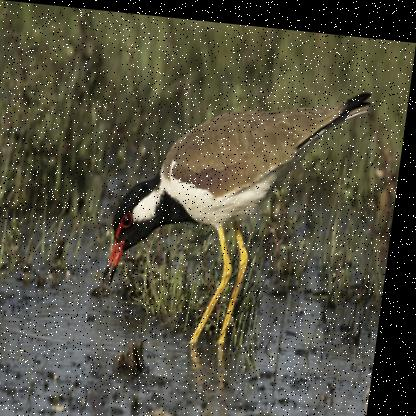Burung: (104, 65, 374, 351)
